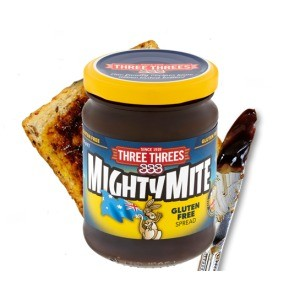yeast spread_brain food: (80, 98, 222, 267)
